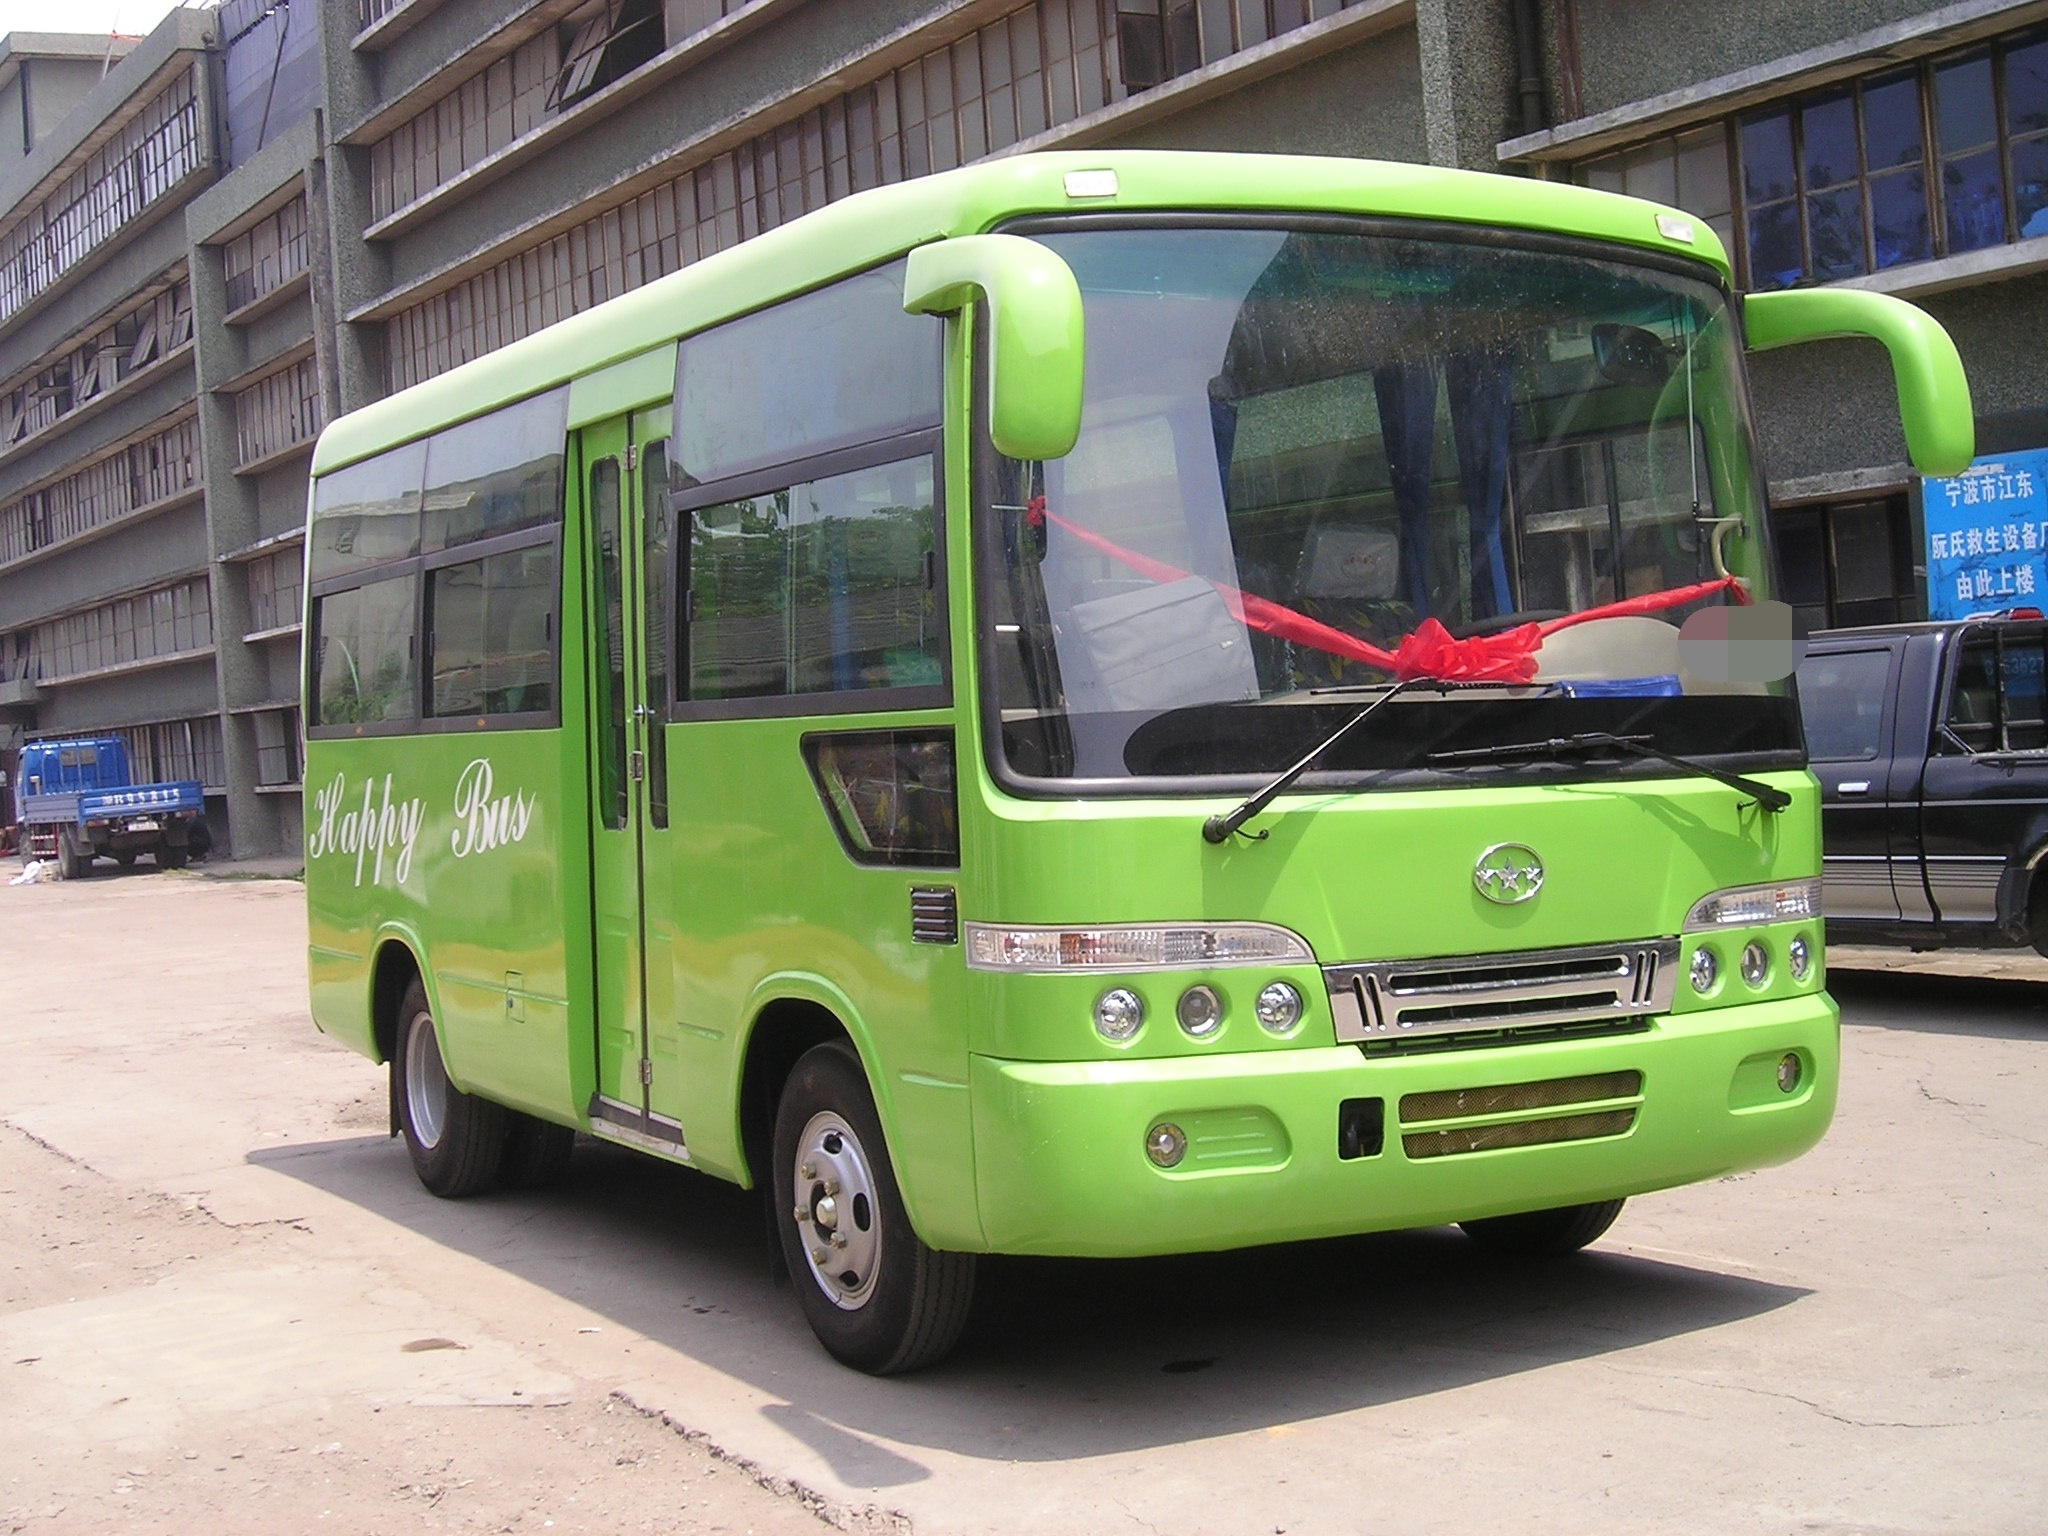bus: (279, 111, 1856, 1326)
truck: (18, 721, 211, 878)
